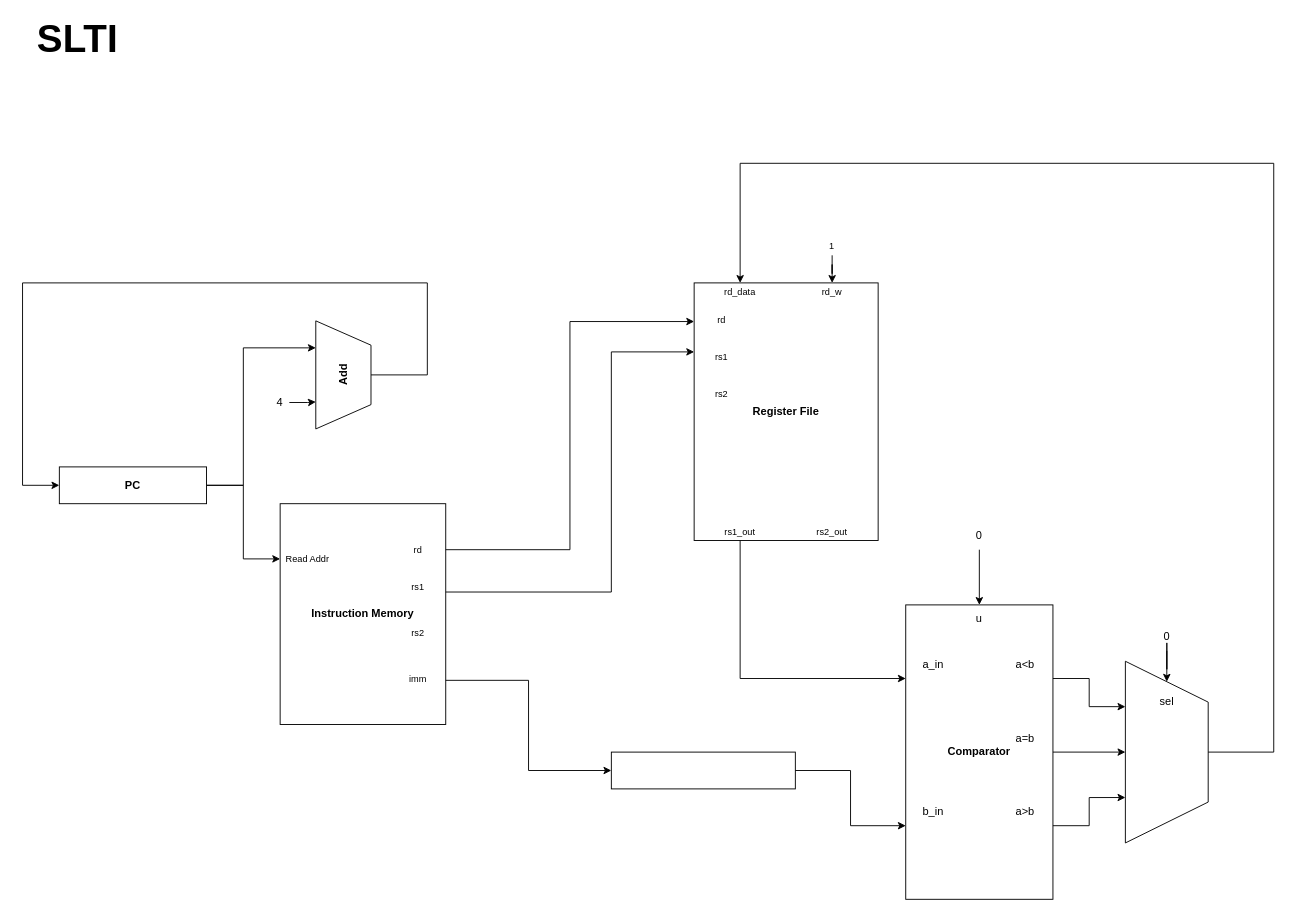
Some shapes in this 1297 by 915 pixel diagram are drawn without their labels. The shapes that lost their labels are listed below. From the top down, each one's centre as x and y in pixels, then its label:
At (702,770): "Sign Extender".
At (1166,751): "MUX".
